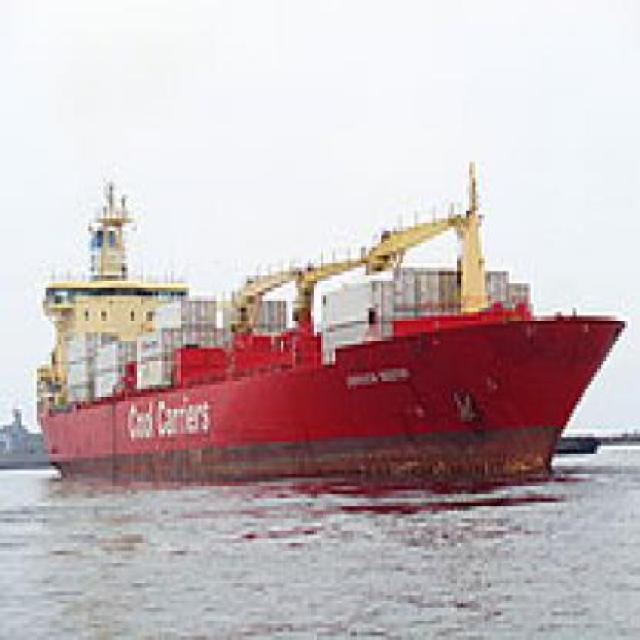container: (26, 167, 635, 503)
